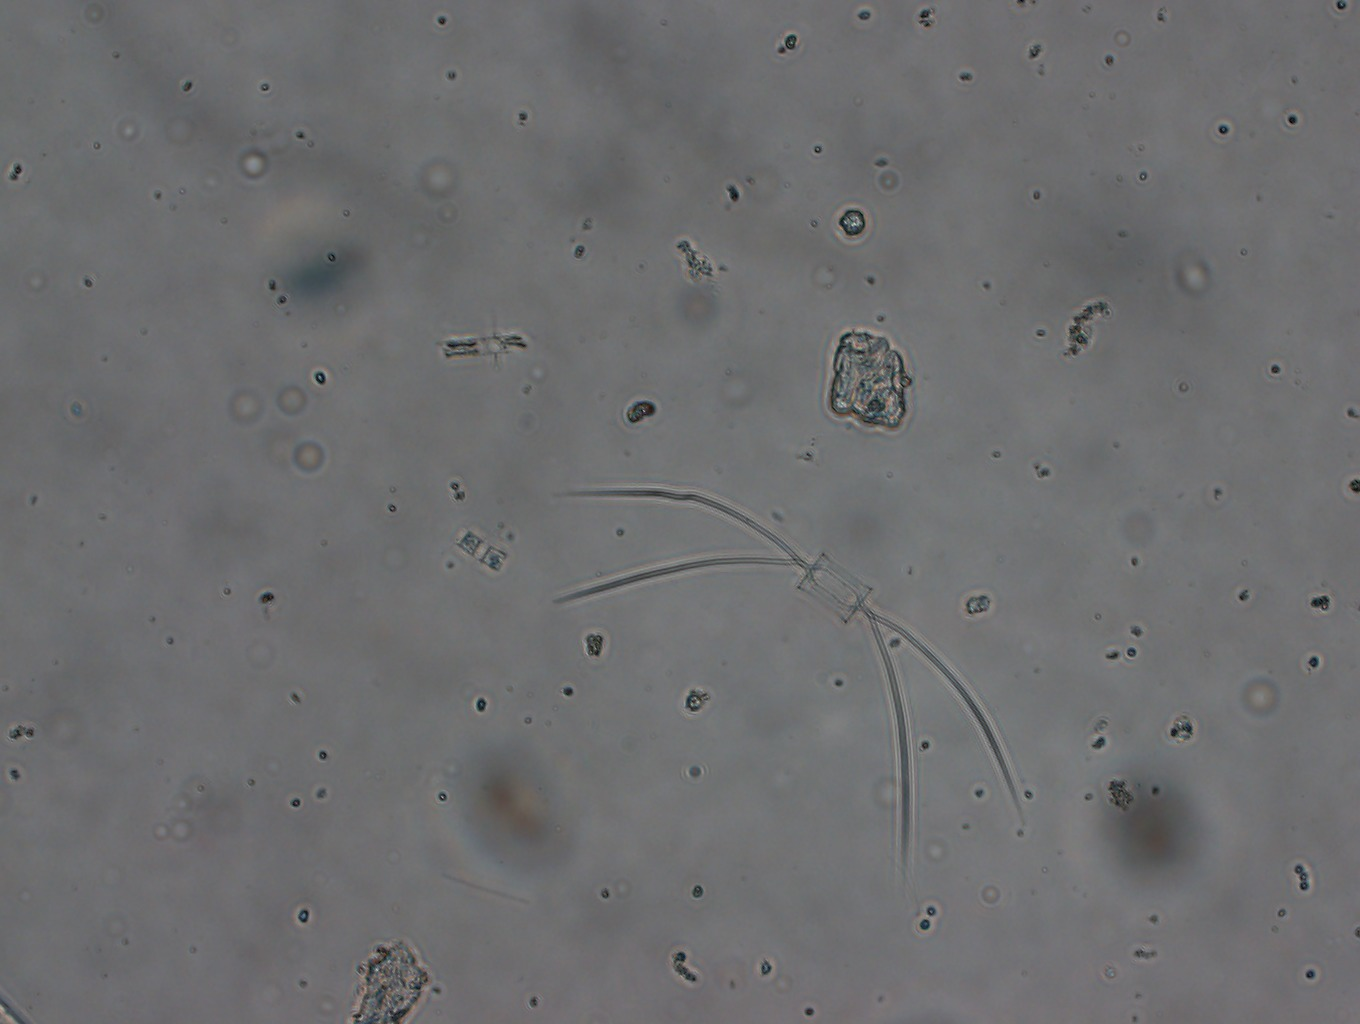chaetoceros: (541, 477, 1039, 880)
